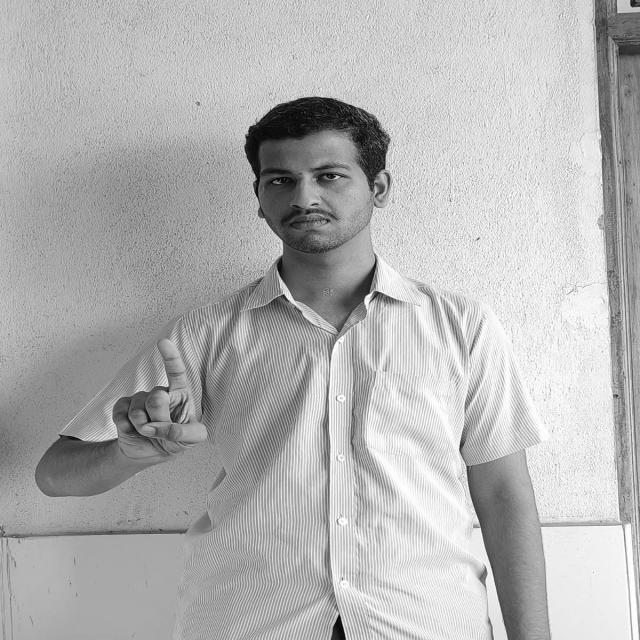Question: (96, 337, 222, 460)
